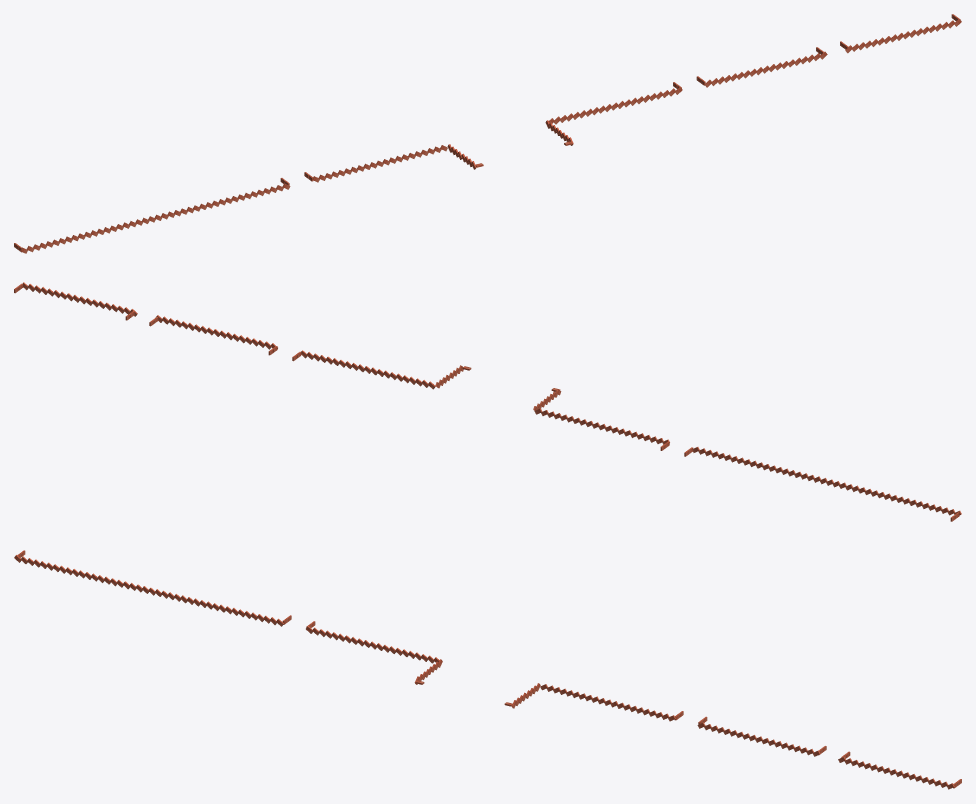
Rendered from GCES_brick.fbx.
3 renders of one model, top to bottom at view 1: azimuth 30°, elevation 25°; view 2: azimuth 150°, elevation 25°; view 3: azimuth 330°, elevation 25°, orthographic.
Bounding box in the file's own units: 736 × 5.49 × 48.03.
1 material, 1 textured.
